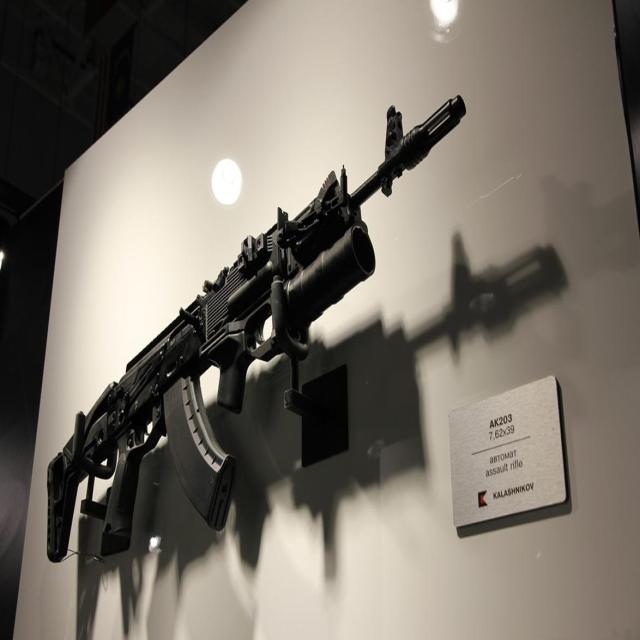Weapon: (47, 95, 466, 561)
